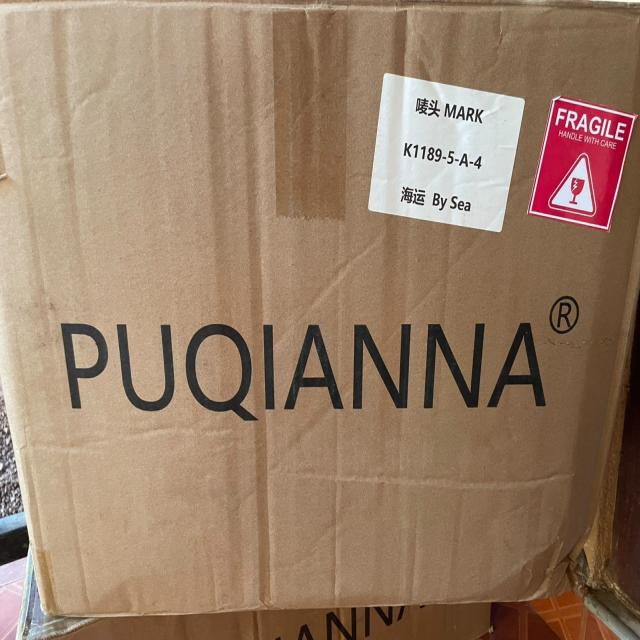carton_box: (0, 1, 640, 640)
export_mark_label: (366, 72, 521, 240)
fragile_label: (532, 83, 632, 242)
package_damage: (539, 488, 640, 621)
